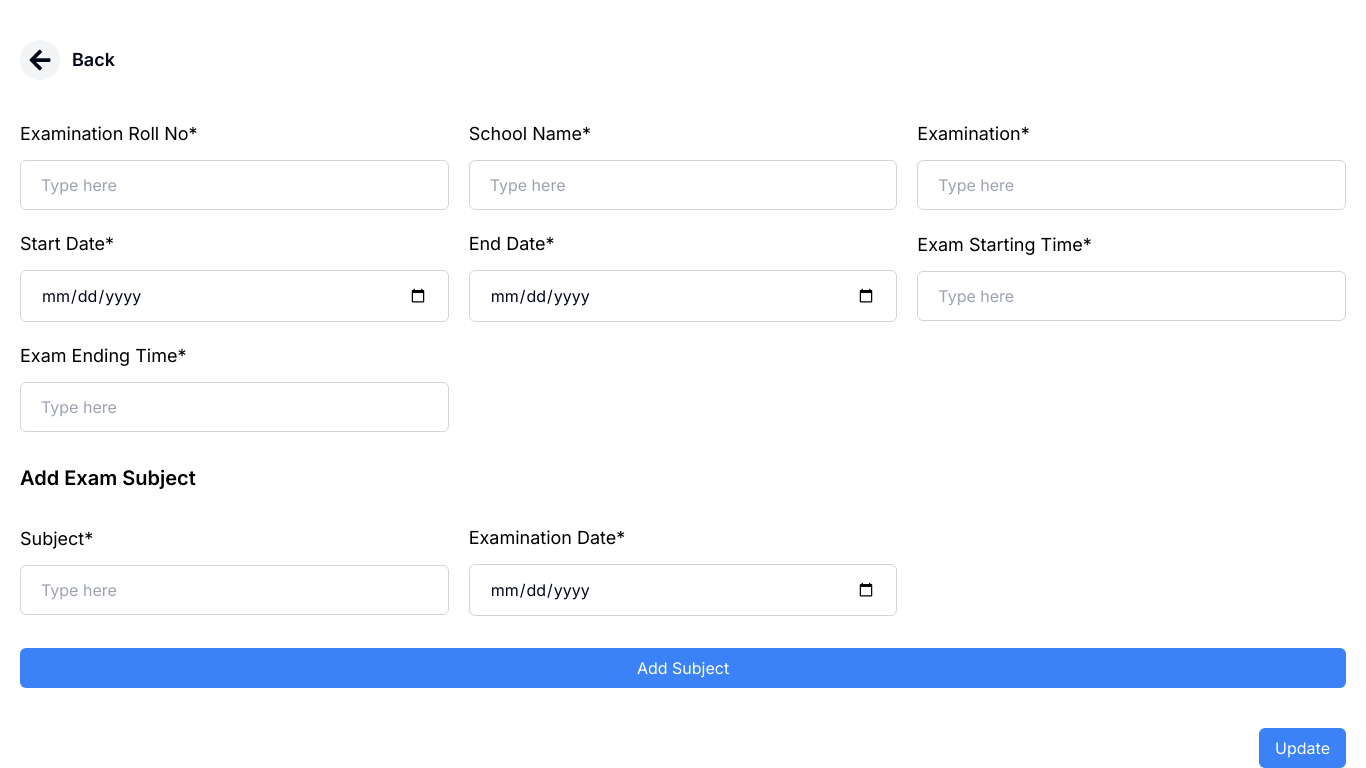
Test: EditAdmitCard › should add a new subject field
Add a new subject field
Click the button "Add Subject" at (683, 668), box left=20, top=648, right=1346, bottom=688
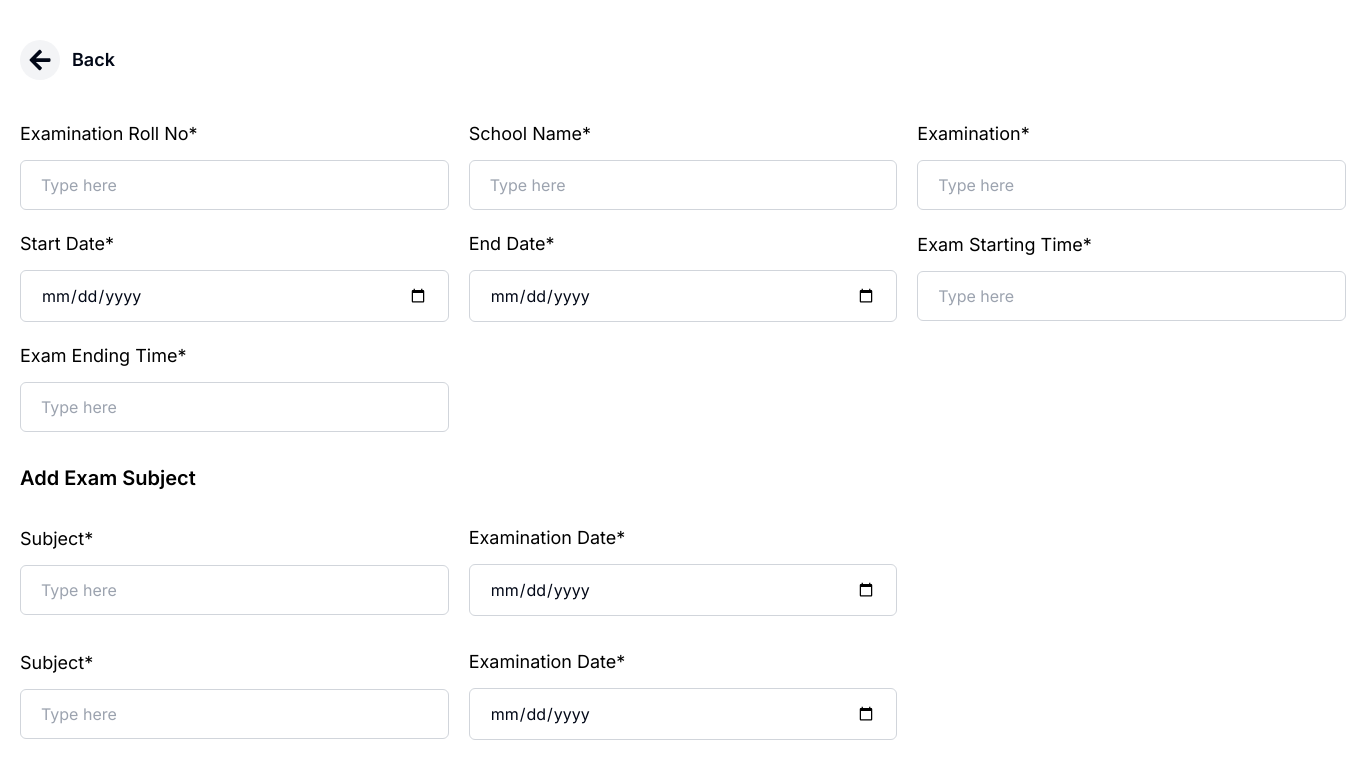
Check: the number of fields labelled "Subject*" is 2, box left=20, top=565, right=449, bottom=615; left=20, top=689, right=449, bottom=739
Check: the number of date fields labelled "Examination Date*" is 2, box left=469, top=564, right=897, bottom=616; left=469, top=688, right=897, bottom=740
